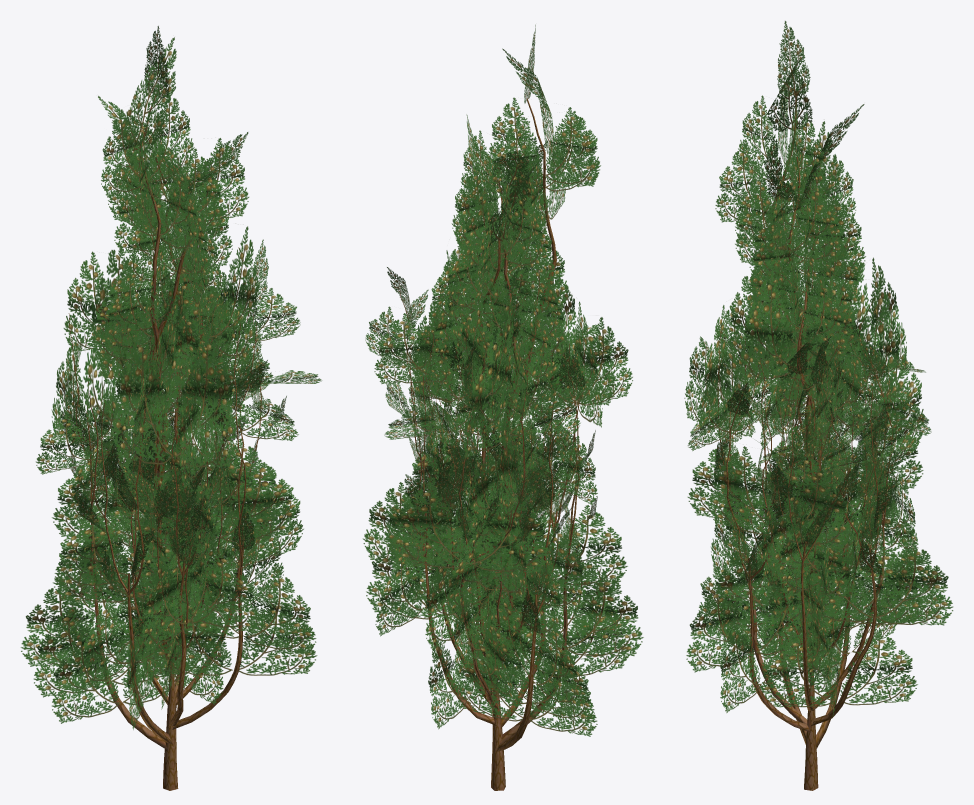
File: sf-cypress.glb
The picture shows the model from 3 angles, left to right: view 1: azimuth 30°, elevation 25°; view 2: azimuth 150°, elevation 25°; view 3: azimuth 270°, elevation 25°; orthographic projection. The views are drawn at different scales.
Visible parts, largest first — view 1: kiparis2; view 2: kiparis2; view 3: kiparis2.
Boxes of the visible parts, x1,y1,x2,y2 form: kiparis2: (20,26,321,790); kiparis2: (362,25,643,790); kiparis2: (684,21,953,790).
Bounding box in the file's own units: 17.84 × 49.71 × 16.68.
Materials: 3 (3 with a texture image).
